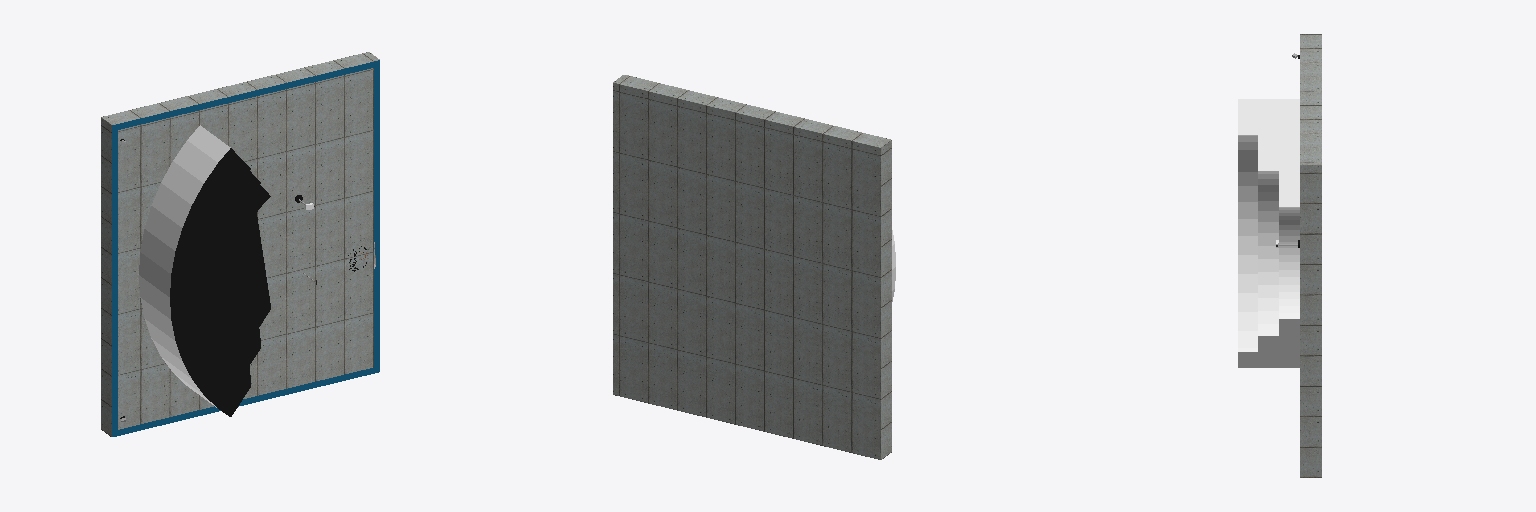
The picture shows the model from 3 angles: view 1: azimuth 30°, elevation 25°; view 2: azimuth 150°, elevation 25°; view 3: azimuth 270°, elevation 25°; orthographic projection.
Parts seen in each view (by area): view 1: Mesh9 auditorium_body1 Model, Mesh10 auditorium_audience1 Model; view 2: Mesh9 auditorium_body1 Model; view 3: Mesh10 auditorium_audience1 Model, Mesh9 auditorium_body1 Model.
Part boxes in pixels (x1,y1,x2,y2): Mesh9 auditorium_body1 Model: (101, 52, 379, 436); Mesh10 auditorium_audience1 Model: (139, 125, 270, 416); Mesh9 auditorium_body1 Model: (613, 75, 891, 459); Mesh10 auditorium_audience1 Model: (1238, 99, 1299, 367); Mesh9 auditorium_body1 Model: (1300, 34, 1321, 477).
Size of the model in its own units: 11.25 by 12.5 by 3.07.
Materials: 10 (2 with a texture image).